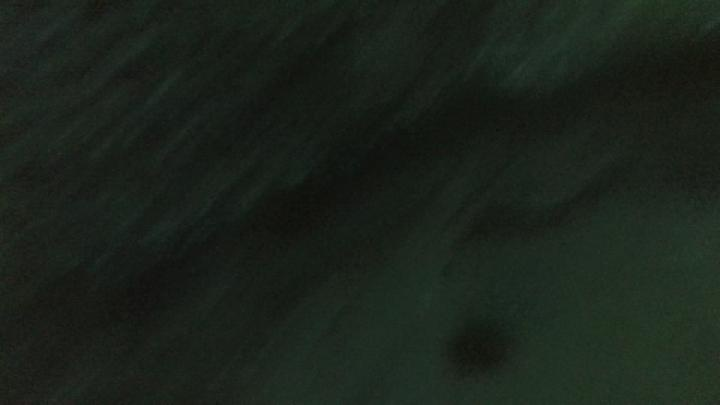echinus: (441, 311, 516, 380)
